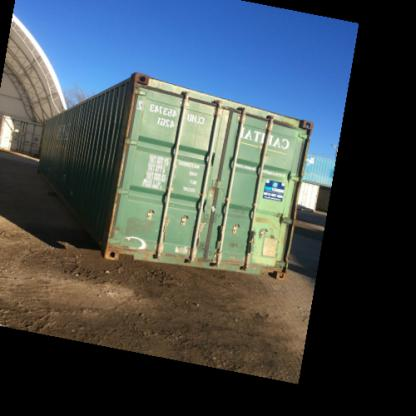Damage: (124, 210, 162, 238), (257, 224, 281, 252), (196, 238, 219, 257), (229, 232, 251, 250)
